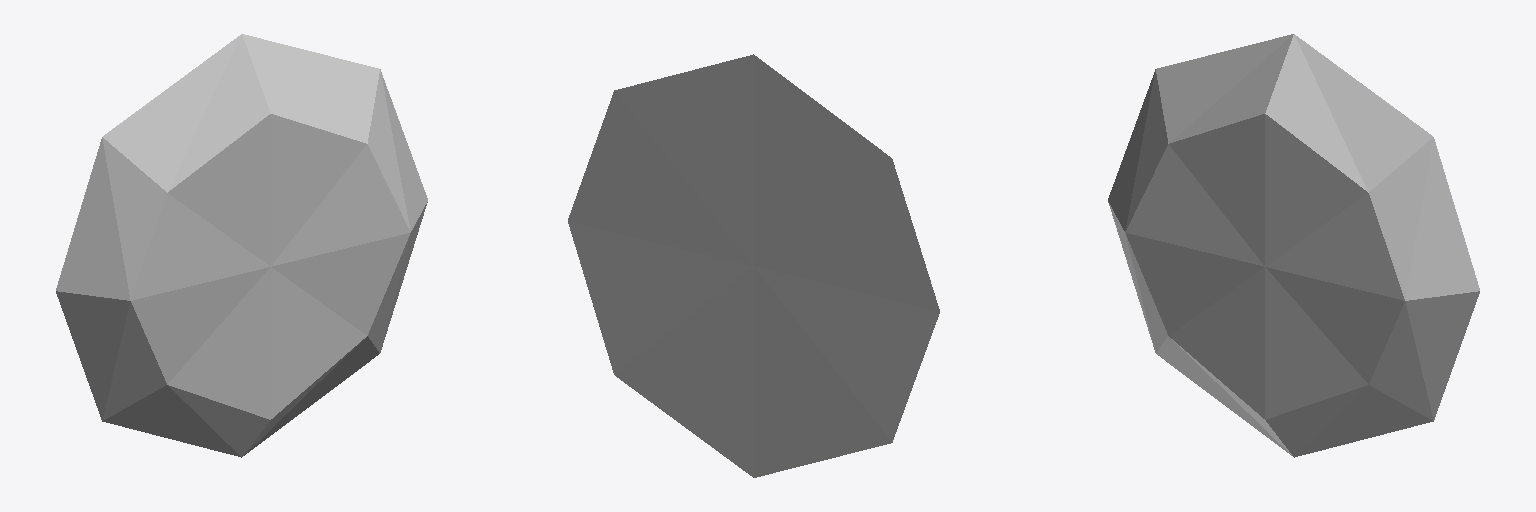
The model's file is chopped_sphere_slice_03.obj.
3 views of the same model, side by side, from view 1: azimuth 30°, elevation 25°; view 2: azimuth 150°, elevation 25°; view 3: azimuth 330°, elevation 25° (orthographic).
Parts seen in each view (by area): view 1: fully_chopped.003_Cube.006; view 2: fully_chopped.003_Cube.006; view 3: fully_chopped.003_Cube.006.
Boxes of the visible parts, x1,y1,x2,y2 form: fully_chopped.003_Cube.006: [56, 34, 427, 457]; fully_chopped.003_Cube.006: [568, 54, 939, 477]; fully_chopped.003_Cube.006: [1108, 34, 1479, 457].
Bounding box in the file's own units: 1.5 × 1.63 × 0.2064.